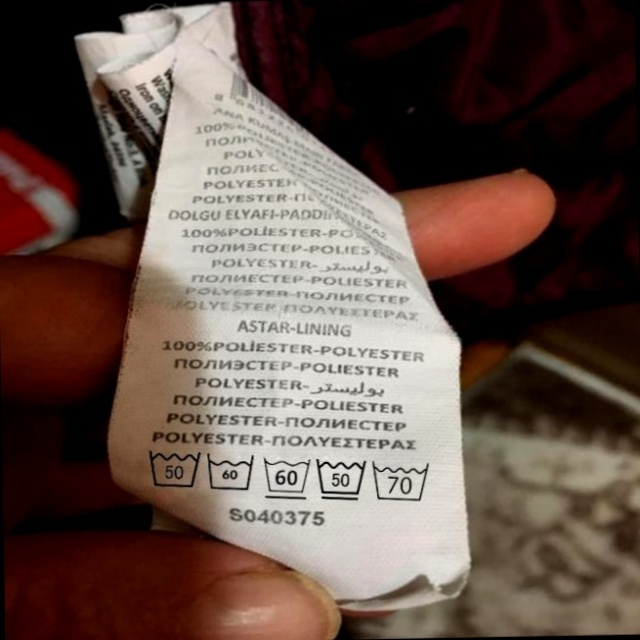50C: (142, 442, 205, 493), (313, 454, 370, 504)
60C: (261, 452, 315, 501), (204, 449, 259, 496)
70C: (371, 458, 436, 504)
